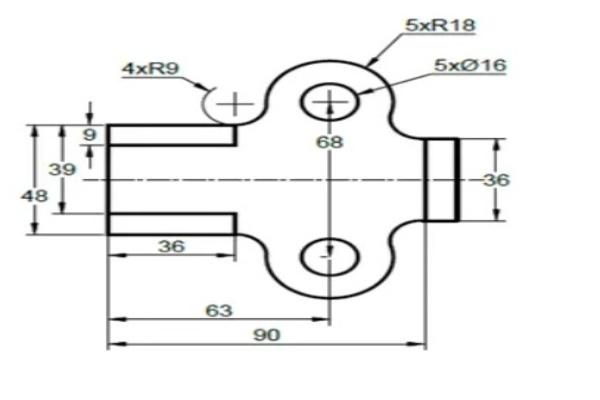dimensions: (427, 53, 516, 78), (397, 12, 485, 35), (116, 53, 185, 77), (245, 323, 287, 346), (199, 297, 242, 319), (308, 131, 348, 153), (479, 169, 516, 191), (19, 184, 53, 206), (76, 120, 103, 146), (48, 158, 79, 180), (153, 238, 191, 254)
